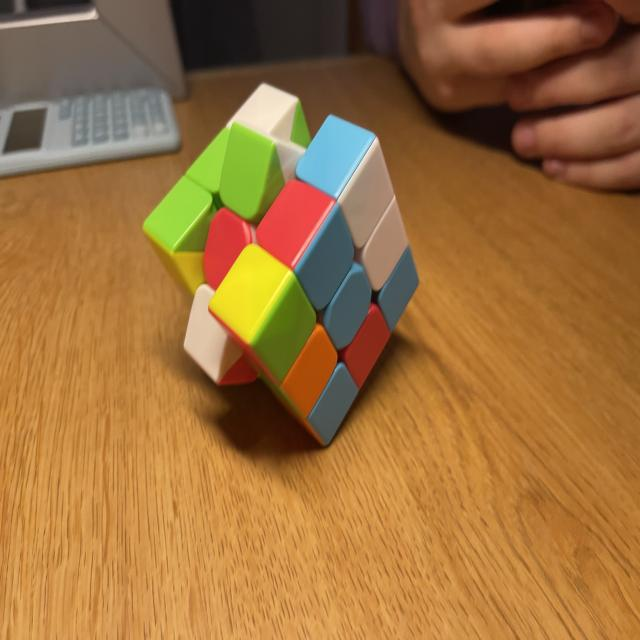Rubiks Cube: (140, 80, 419, 449)
